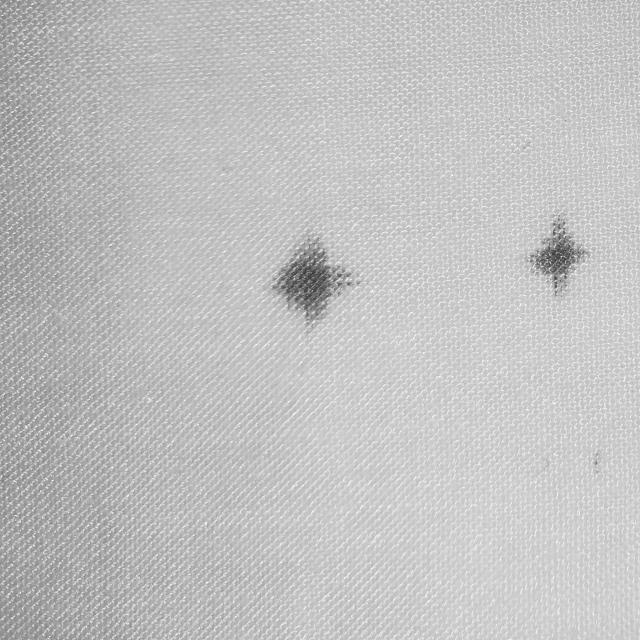Stain: (273, 237, 353, 323), (527, 213, 590, 295)
